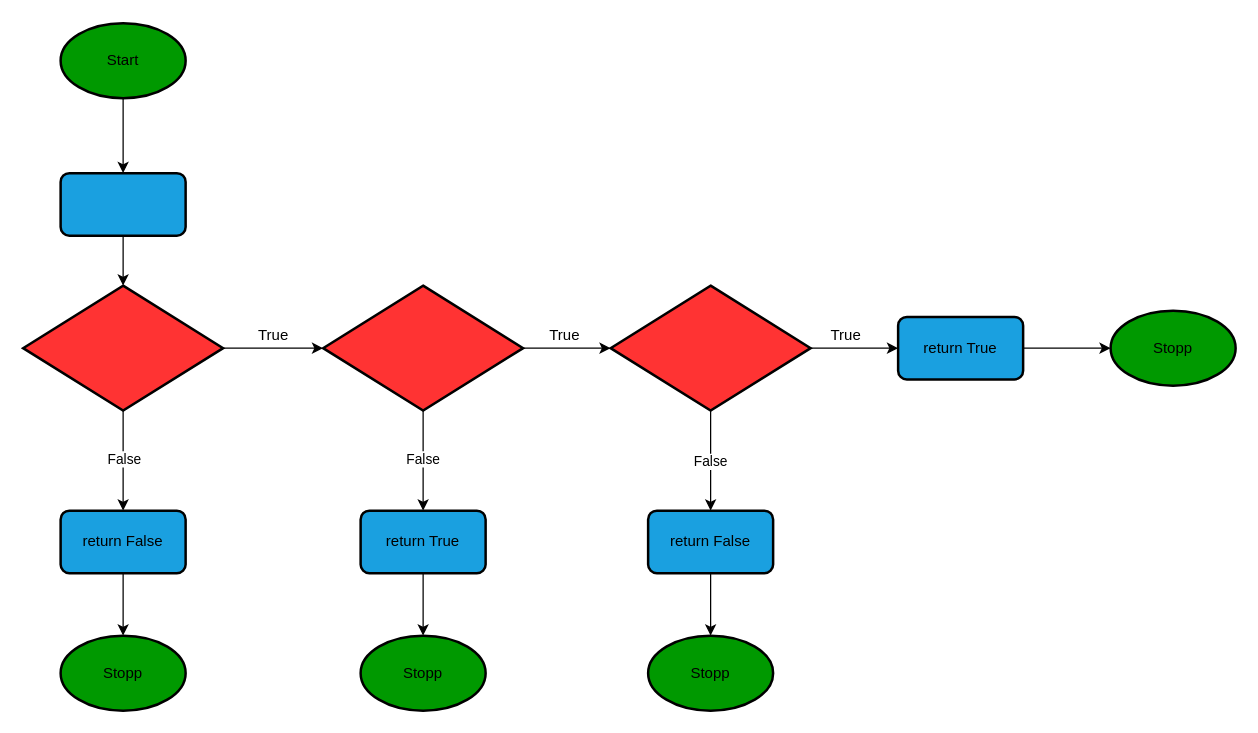
This 1258x733 diagram has some shape labels left out. The centre of each missing label's shape, as x and y in pixels:
år: (122,203)
år % 100 == 0: (422,347)
år % 4 == 0: (122,347)
år % 400 == 0: (710,347)
